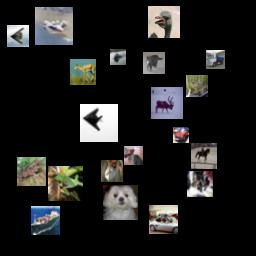airplane: (80, 104, 118, 142), (35, 7, 73, 45), (7, 25, 29, 47)
automobile: (149, 205, 178, 234), (173, 127, 189, 143)
bird: (148, 6, 180, 38), (101, 160, 123, 182)
cat: (187, 171, 213, 197), (143, 52, 165, 74), (124, 146, 143, 165)
deer: (151, 87, 183, 119), (70, 59, 96, 85)
dog: (103, 185, 138, 220)
frog: (48, 166, 83, 201), (17, 157, 46, 186), (186, 75, 208, 97)
ship: (31, 206, 60, 235), (110, 49, 126, 65)
truck: (206, 50, 225, 69)
